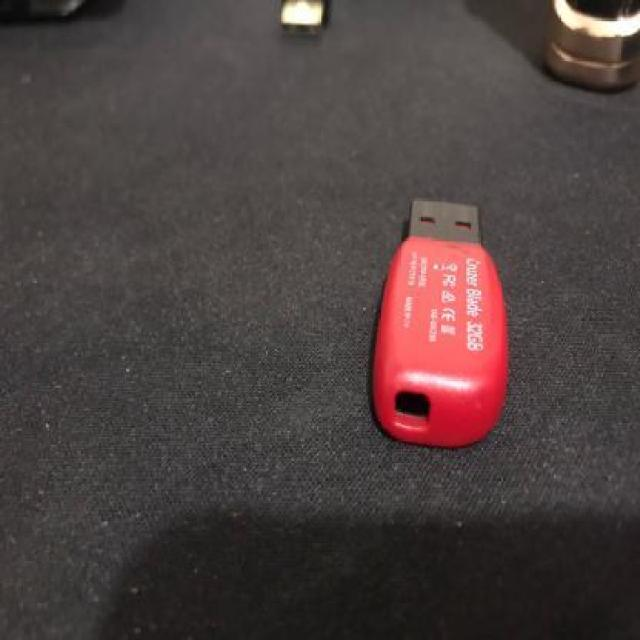Flashdisk: (375, 179, 513, 459)
